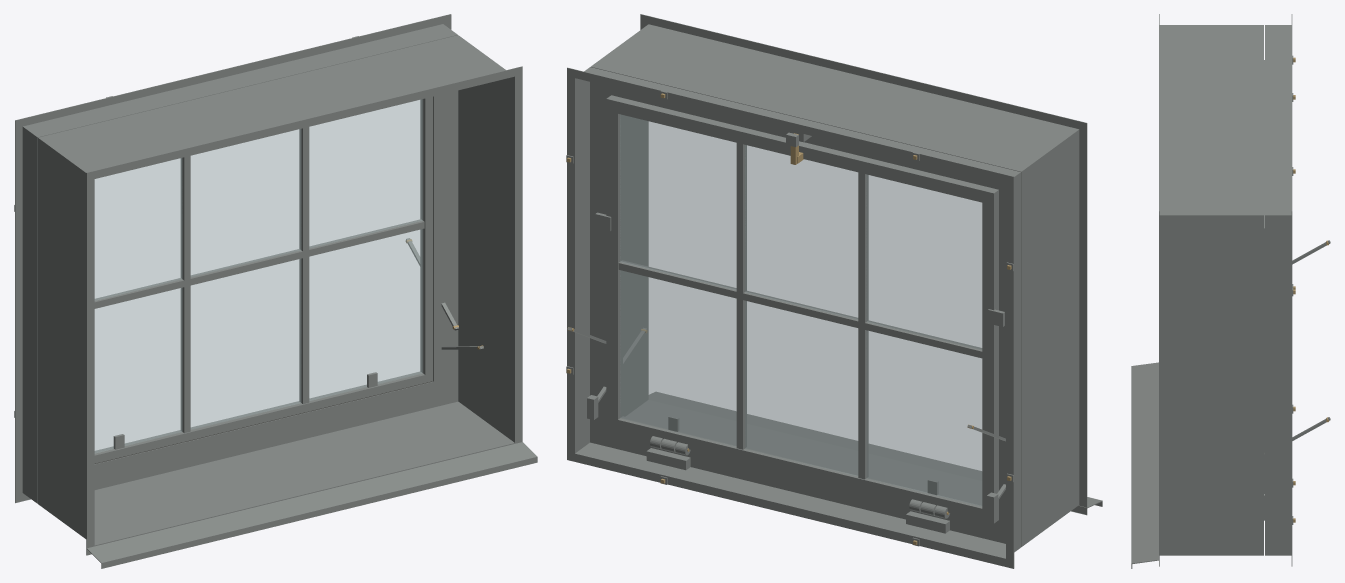
Rendered from boiler_window.glb.
3 views of the same model, side by side, from view 1: azimuth 30°, elevation 25°; view 2: azimuth 150°, elevation 25°; view 3: azimuth 270°, elevation 25° (orthographic). The views are drawn at different scales.
Parts seen in each view (by area): view 1: Fixed_metal, Sash_glass, Sash_metal, Fixed_rubber_aged; view 2: Fixed_metal, Sash_glass, Sash_metal; view 3: Fixed_metal.
Part boxes in pixels (x1,y1,x2,y2): Fixed_metal: (14, 14, 537, 568); Sash_glass: (94, 99, 422, 453); Sash_metal: (94, 96, 432, 463); Fixed_rubber_aged: (95, 97, 433, 463); Fixed_metal: (566, 14, 1102, 568); Sash_glass: (620, 114, 982, 506); Sash_metal: (595, 95, 1004, 523); Fixed_metal: (1131, 14, 1293, 568).
Bounding box in the file's own units: 1.24 × 1.05 × 0.5284.
